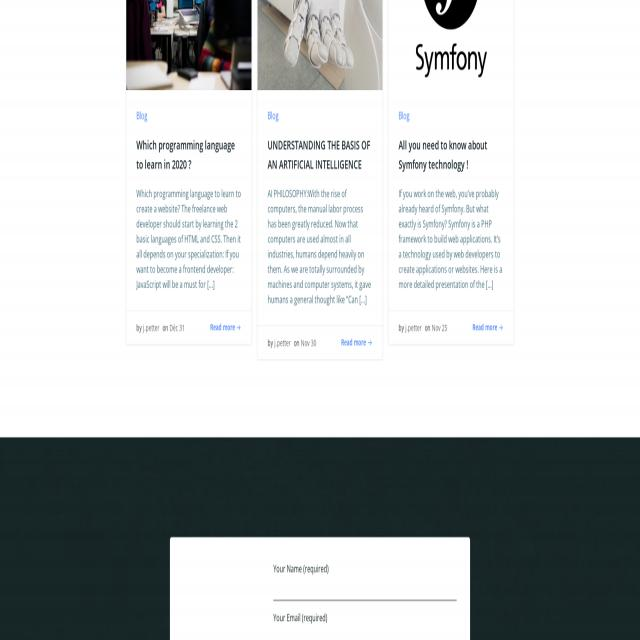button: (126, 0, 252, 90), (388, 0, 514, 90), (258, 0, 382, 90)
field: (273, 579, 457, 600)
